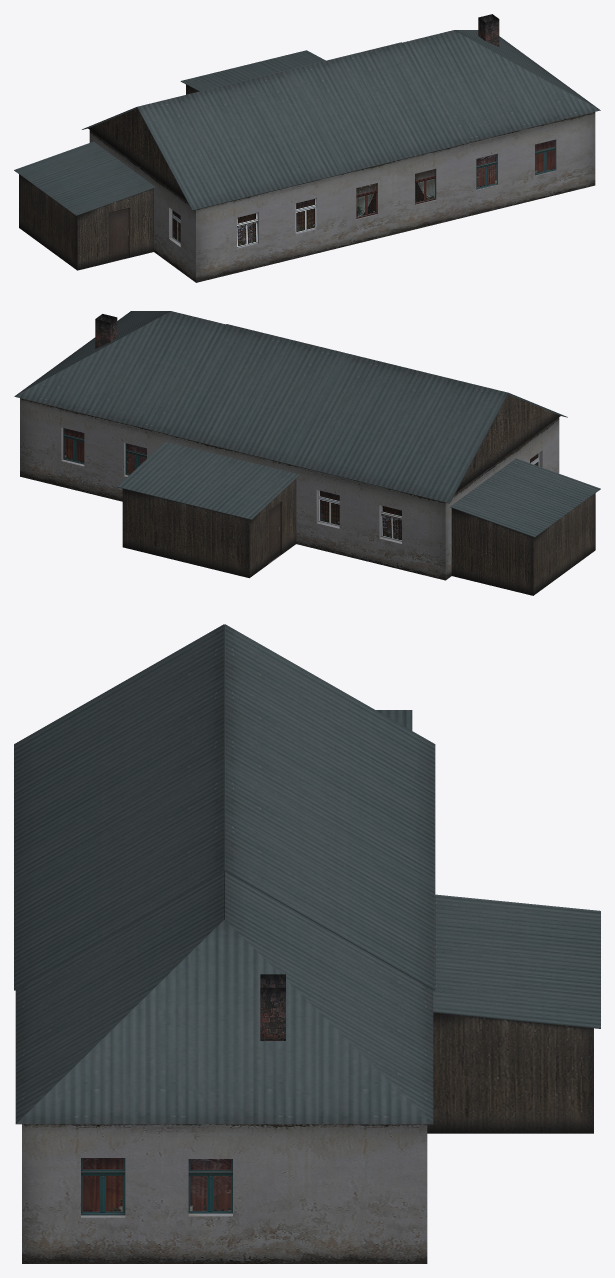
File: Dhz_zsfz_01.FBX
3 renders of one model, top to bottom at view 1: azimuth 30°, elevation 25°; view 2: azimuth 150°, elevation 25°; view 3: azimuth 270°, elevation 25°, orthographic. The views are drawn at different scales.
Visible parts, largest first — view 1: Dhz_zsfz_01; view 2: Dhz_zsfz_01; view 3: Dhz_zsfz_01.
Boxes of the visible parts, x1,y1,x2,y2 form: Dhz_zsfz_01: [14, 14, 600, 282]; Dhz_zsfz_01: [14, 311, 600, 595]; Dhz_zsfz_01: [14, 624, 600, 1263].
Size of the model in its own units: 20.14 by 5.52 by 11.14.
